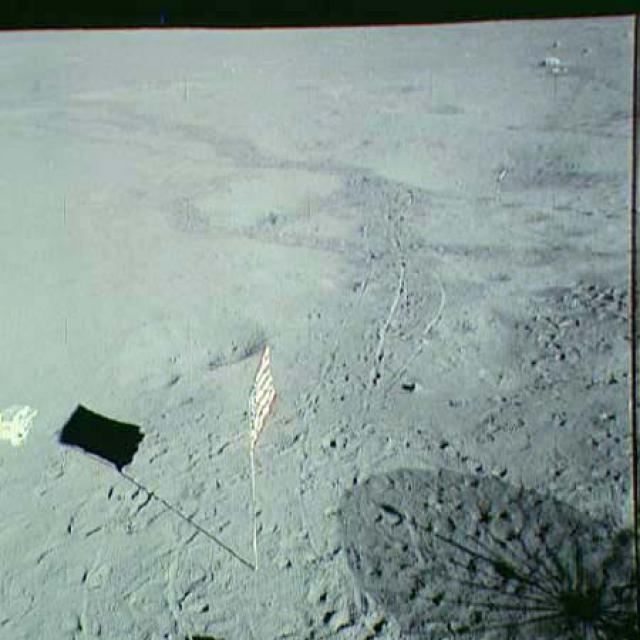crater: (108, 291, 280, 405)
